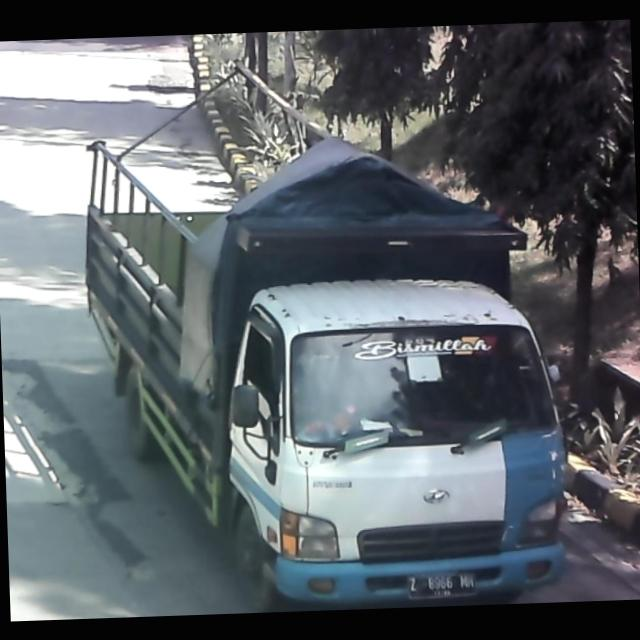plate: (402, 568, 479, 600)
